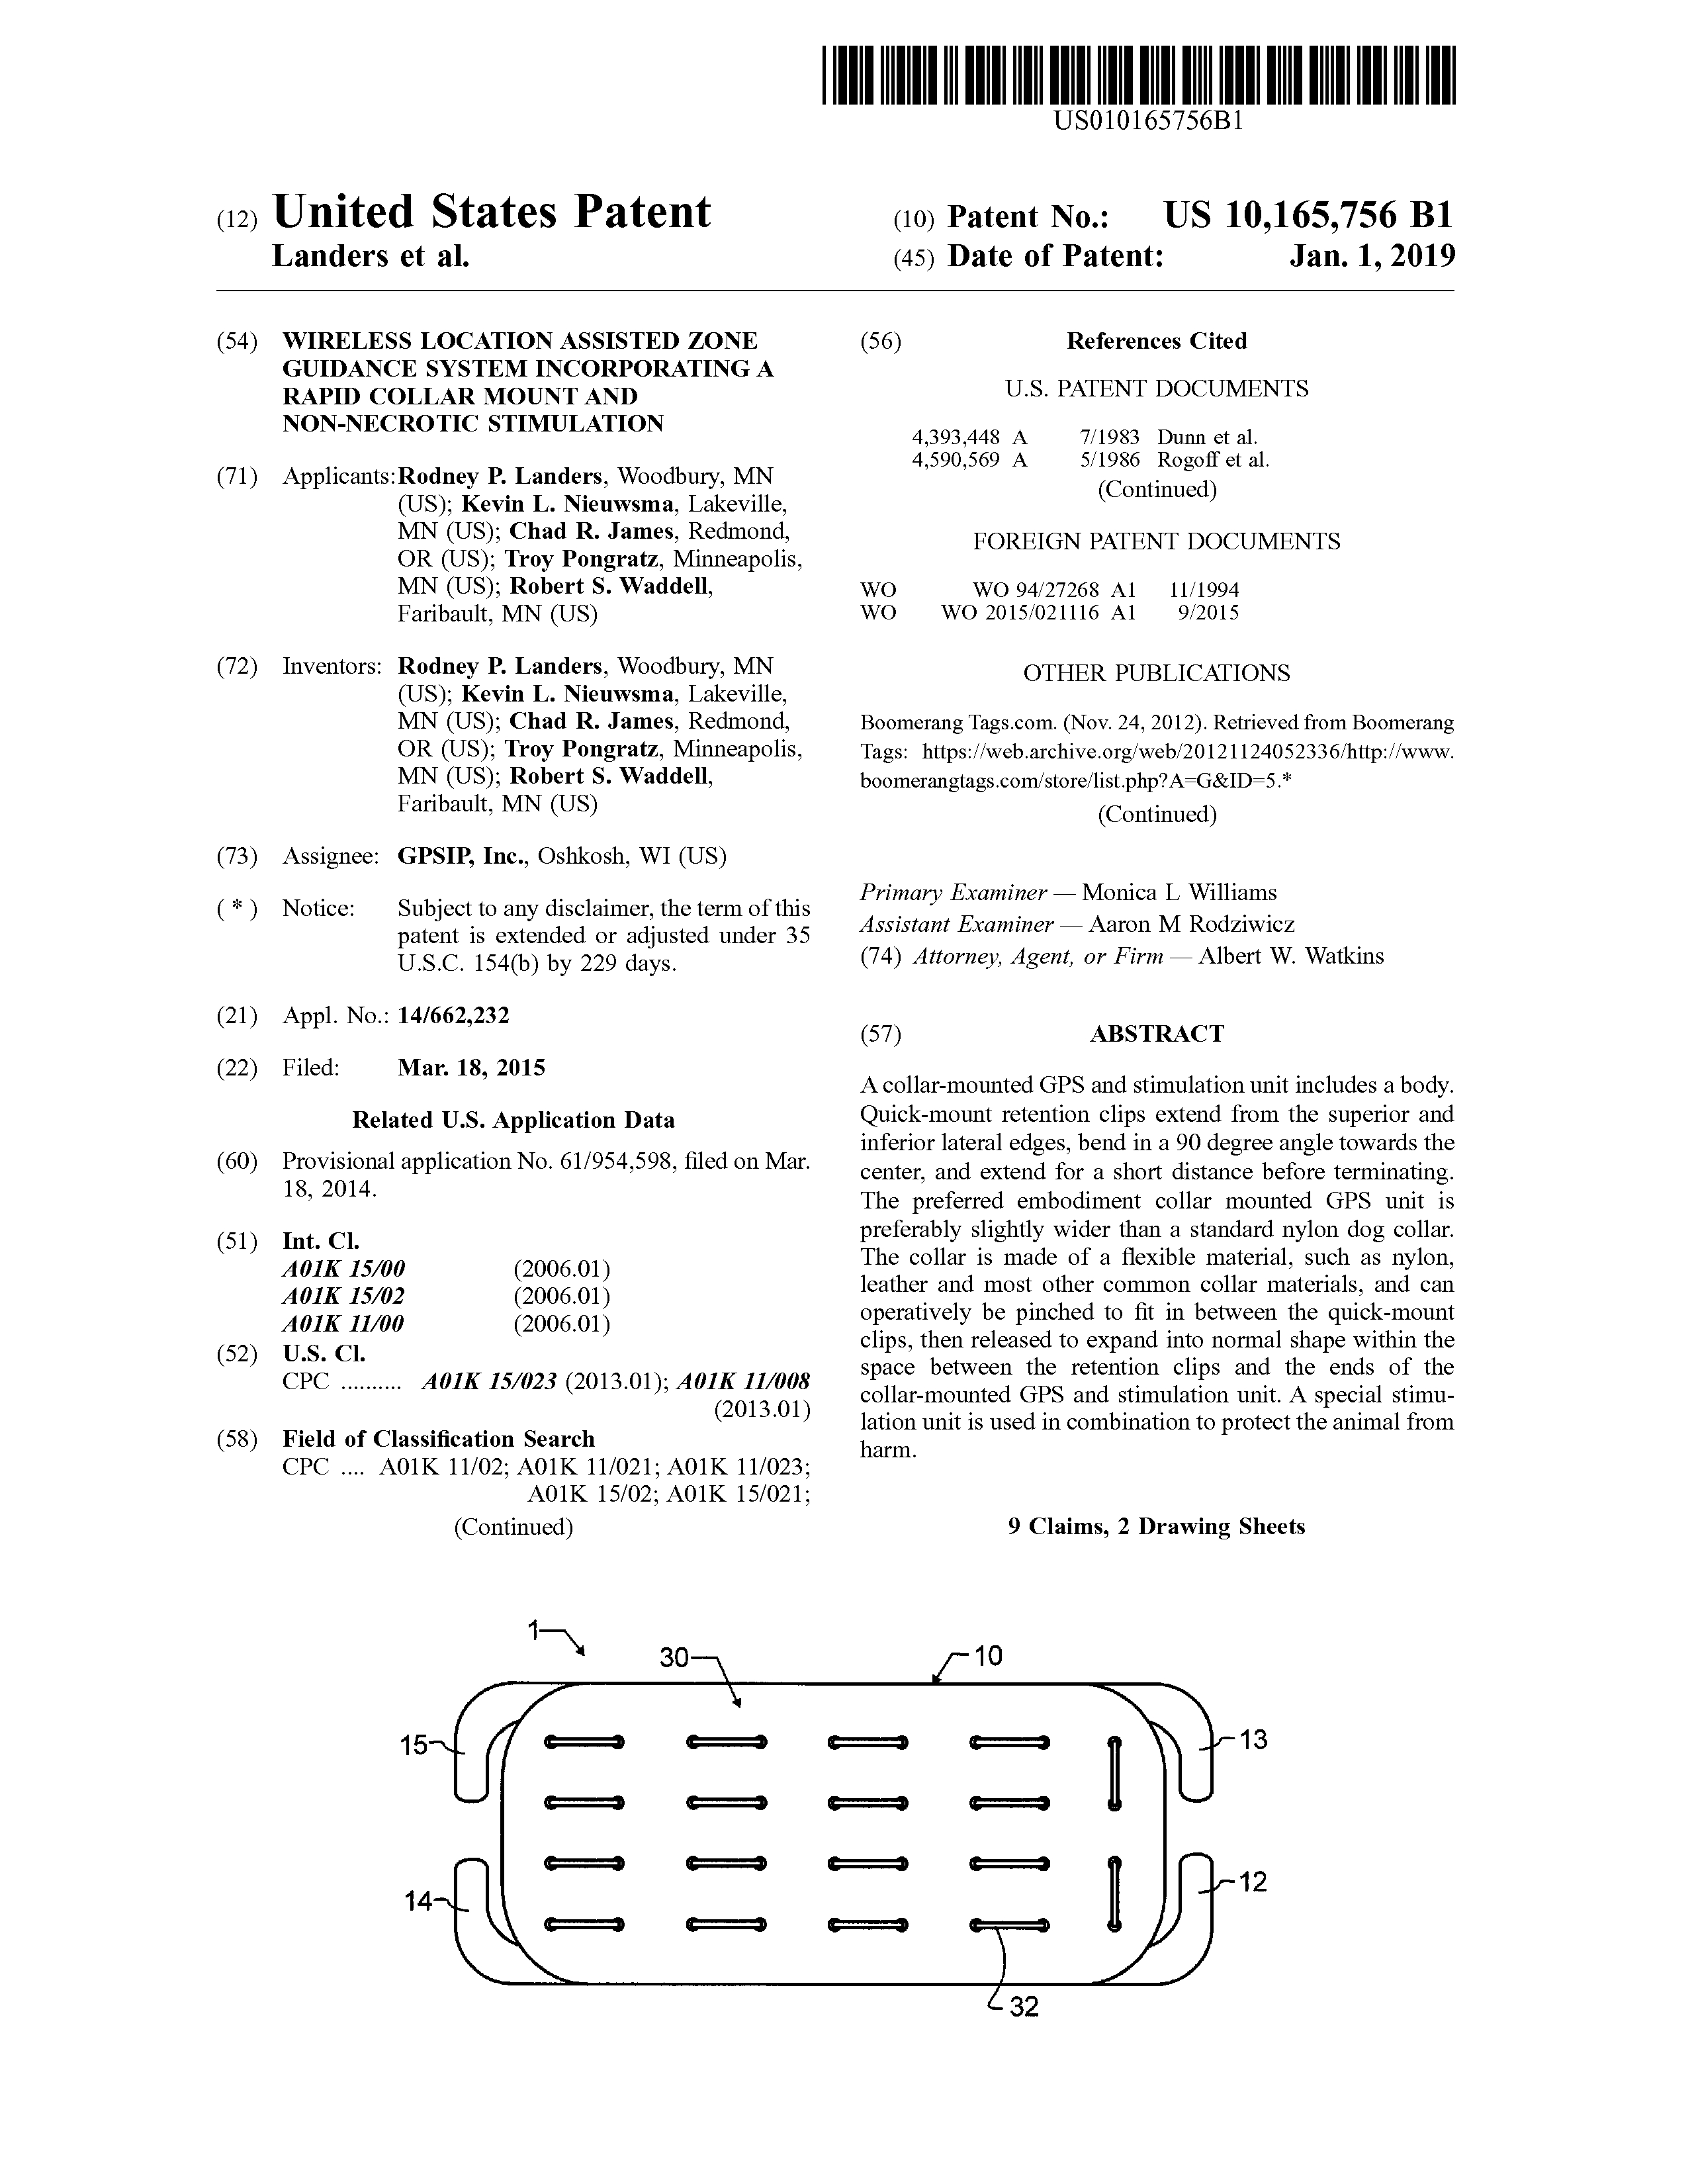patent image: (374, 1602, 1319, 2066)
